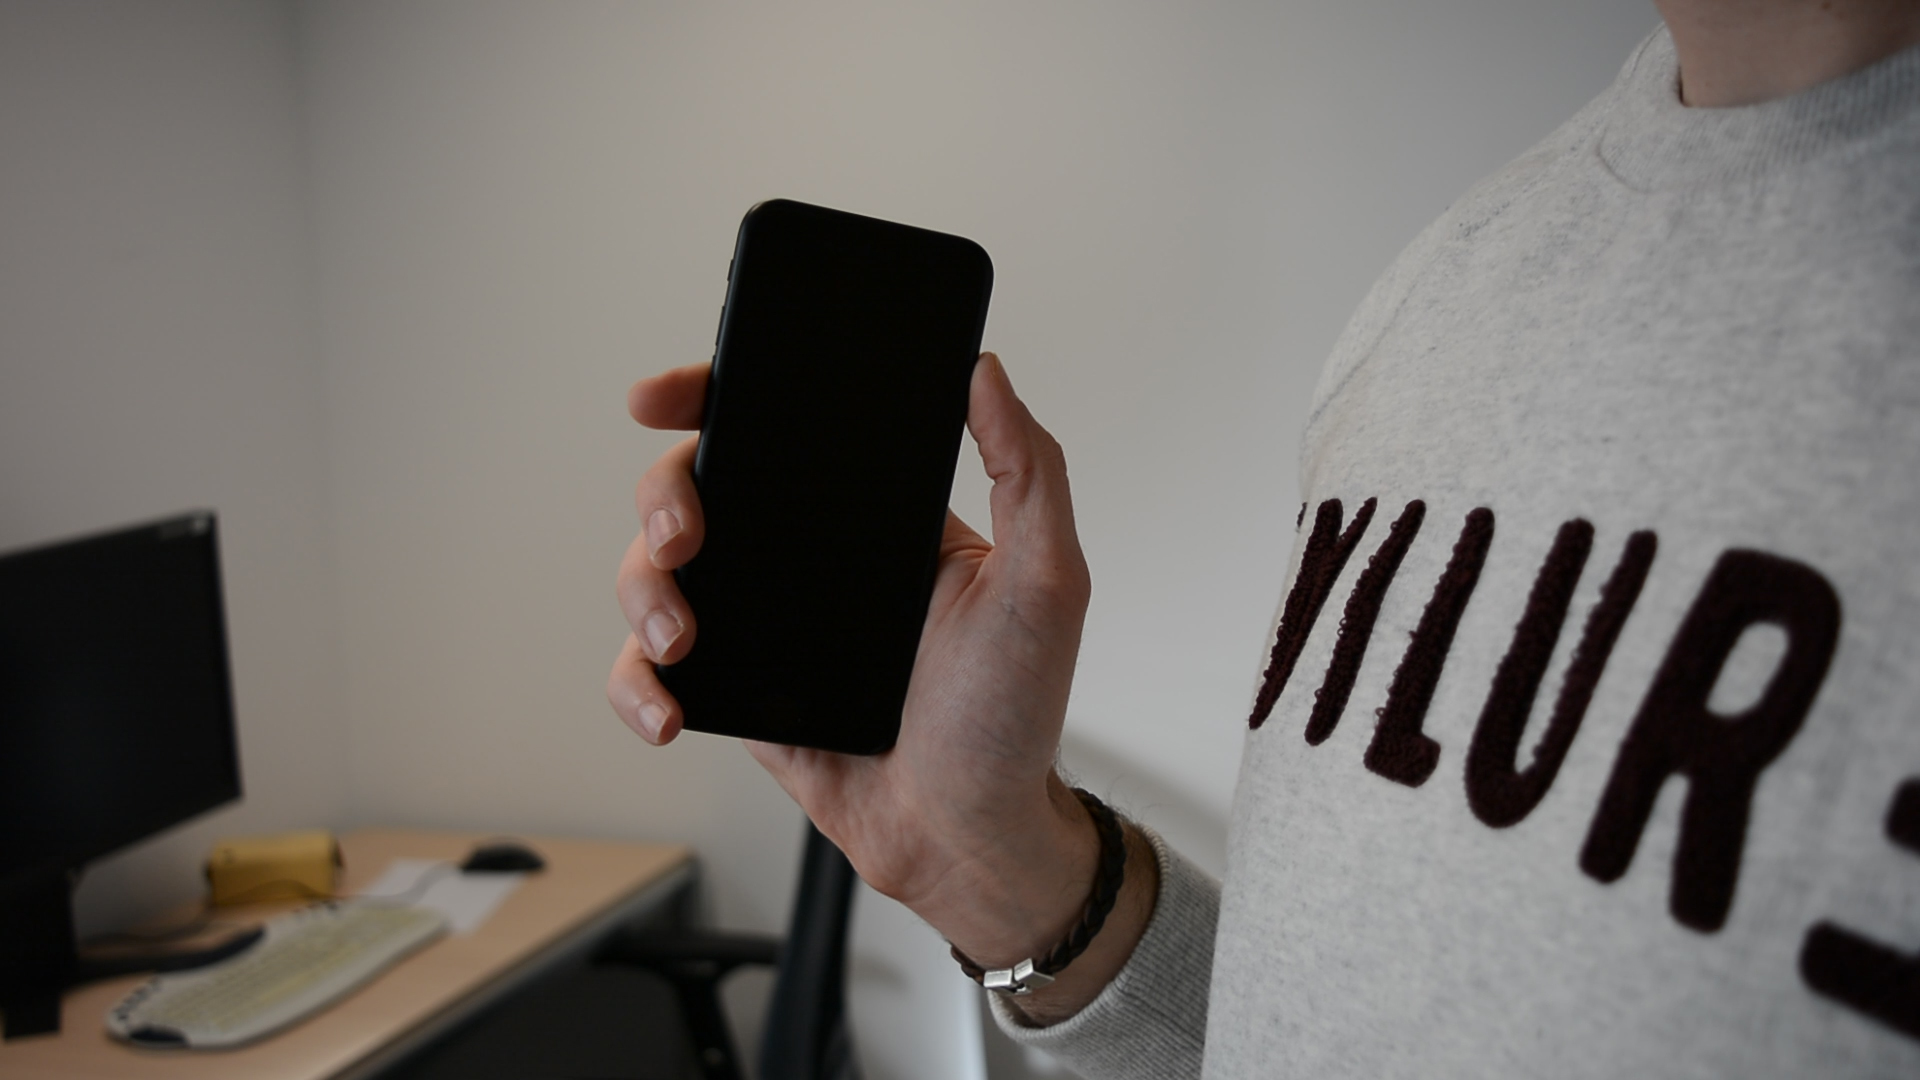smartphone: (647, 196, 996, 761)
